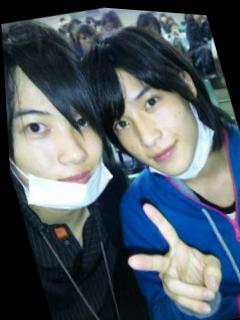NONE: (76, 31, 98, 53), (193, 12, 208, 18)
WRONG: (5, 85, 120, 222), (100, 61, 218, 192)
